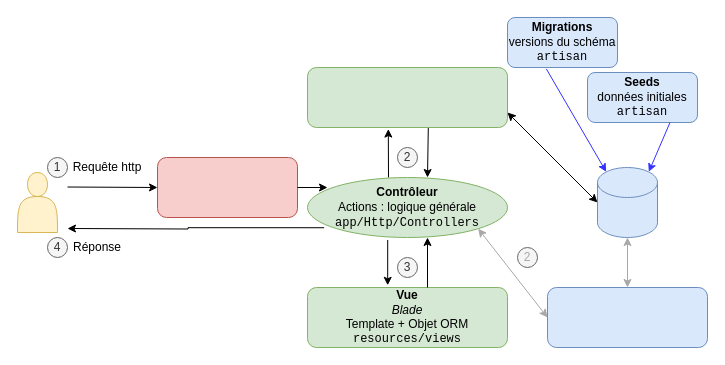
The diagram is 725 pixels wide and 365 high, and some of its shapes have lost their labels. Here are the shapes that lost their labels. From the top down, the centre of each, then its label:
At (x=407, y=97): "Modèle (ORM) Eloquent Accès DB avec objets app/Models".
At (x=227, y=187): "Routeur conversion URL -> action routes/".
At (x=627, y=202): "Base de Données".
At (x=627, y=317): "Query Builder Requête SQL -> Collection DB::*".
